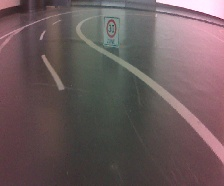zone 30 sign: (101, 14, 120, 48)
